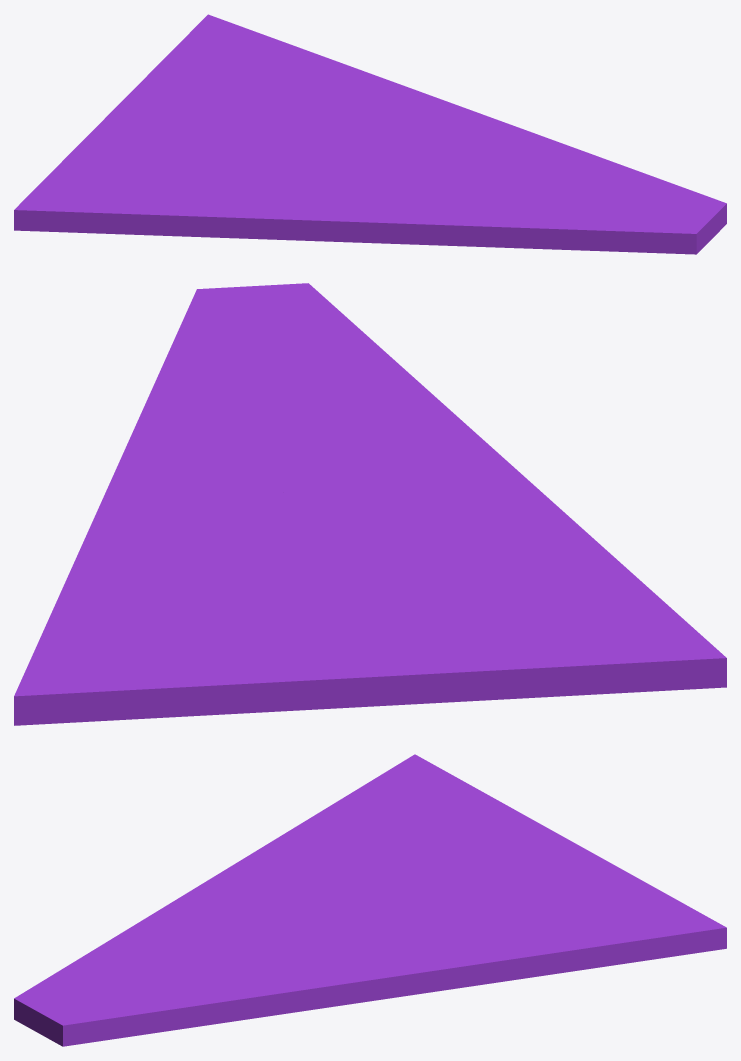
Rendered from StairsStep_40_chunks.fbx.
3 views of the same model, one above another, from view 1: azimuth 30°, elevation 25°; view 2: azimuth 150°, elevation 25°; view 3: azimuth 270°, elevation 25° (orthographic). The views are drawn at different scales.
Parts seen in each view (by area): view 1: StairsStep_40_1, StairsStep_40_0, StairsStep_40_2, StairsStep_40_3; view 2: StairsStep_40_1, StairsStep_40_2, StairsStep_40_0, StairsStep_40_3; view 3: StairsStep_40_1, StairsStep_40_2, StairsStep_40_0, StairsStep_40_3.
Boxes of the visible parts, bbox=[...] form: StairsStep_40_1: bbox=[14, 14, 424, 235]; StairsStep_40_0: bbox=[168, 169, 647, 252]; StairsStep_40_2: bbox=[415, 93, 726, 254]; StairsStep_40_3: bbox=[390, 146, 438, 172]; StairsStep_40_1: bbox=[14, 490, 726, 725]; StairsStep_40_2: bbox=[90, 283, 338, 526]; StairsStep_40_0: bbox=[313, 310, 631, 572]; StairsStep_40_3: bbox=[253, 462, 339, 493]; StairsStep_40_1: bbox=[307, 754, 726, 989]; StairsStep_40_2: bbox=[14, 933, 451, 1046]; StairsStep_40_0: bbox=[43, 810, 324, 980]; StairsStep_40_3: bbox=[275, 916, 341, 937].
Bounding box in the file's own units: 494 × 17.94 × 549.
